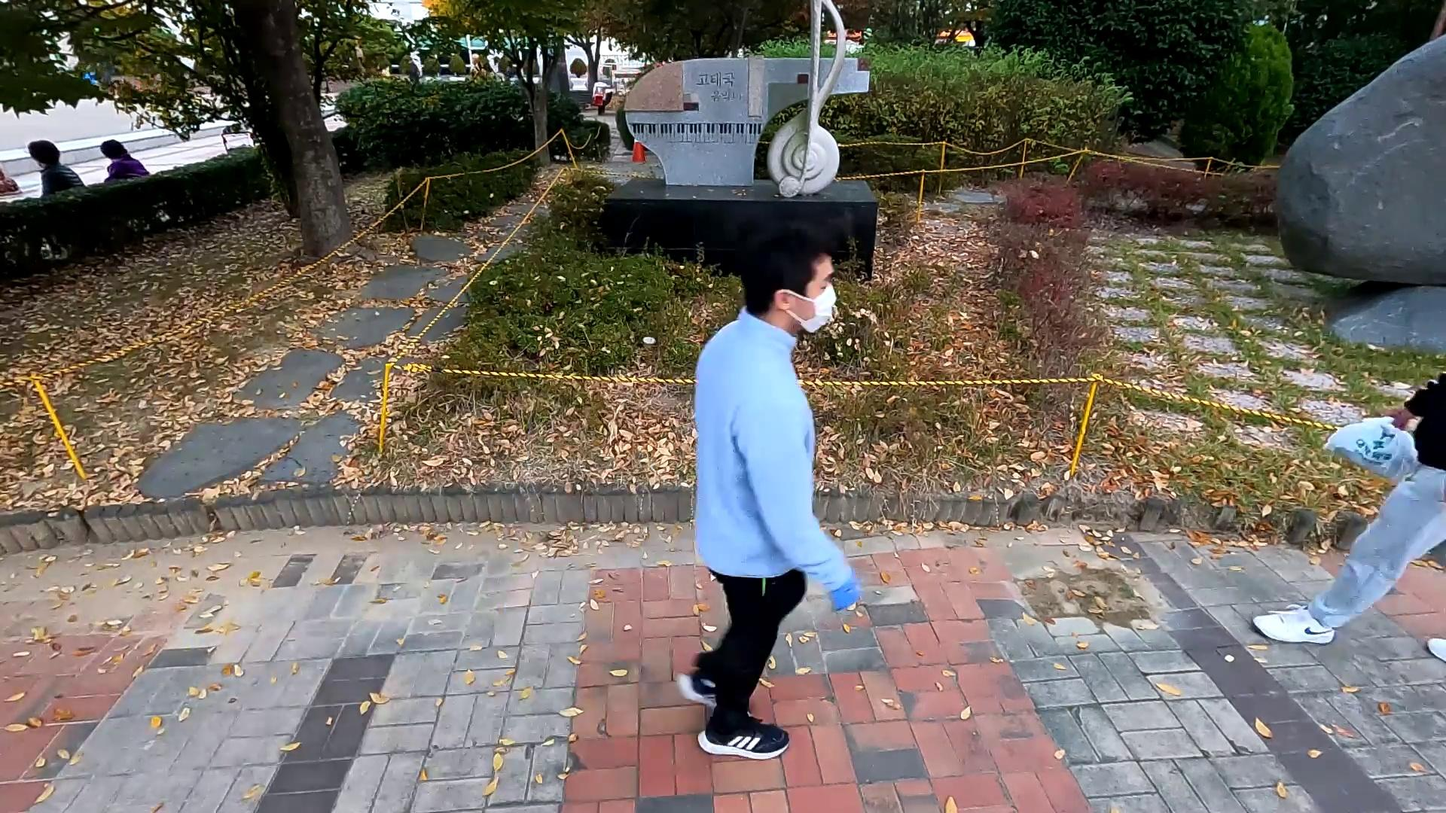person: (682, 220, 870, 768), (1252, 359, 1446, 668)
trash: (1318, 416, 1427, 478)
